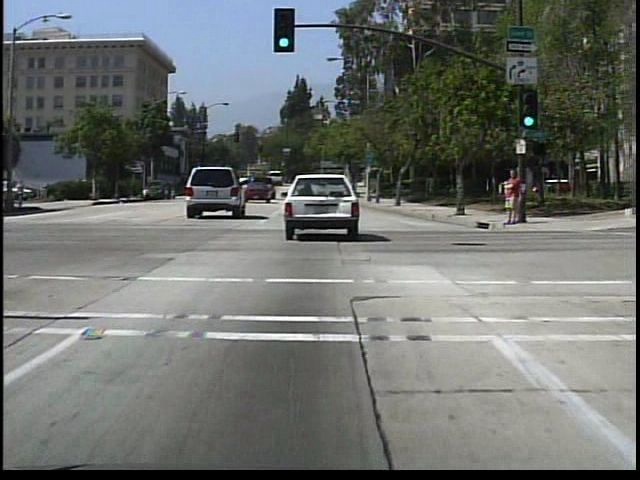person: (497, 166, 525, 228), (17, 179, 29, 208)
